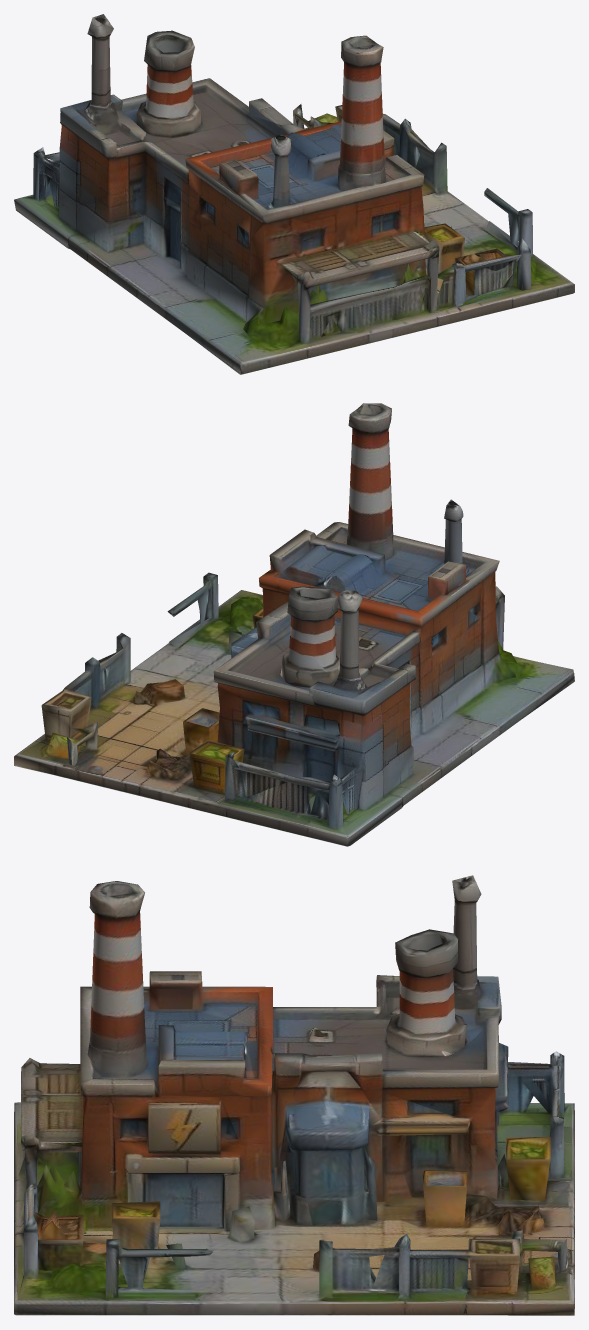
Rendered from power_plant.glb.
3 views of the same model, one above another, from view 1: azimuth 30°, elevation 25°; view 2: azimuth 150°, elevation 25°; view 3: azimuth 270°, elevation 25° (orthographic). The views are drawn at different scales.
Parts seen in each view (by area): view 1: tripo_node_d4320154-a605-4a2c-970f-9fe70ea67885; view 2: tripo_node_d4320154-a605-4a2c-970f-9fe70ea67885; view 3: tripo_node_d4320154-a605-4a2c-970f-9fe70ea67885.
Boxes of the visible parts, x1,y1,x2,y2 form: tripo_node_d4320154-a605-4a2c-970f-9fe70ea67885: (14, 14, 574, 374); tripo_node_d4320154-a605-4a2c-970f-9fe70ea67885: (14, 403, 574, 846); tripo_node_d4320154-a605-4a2c-970f-9fe70ea67885: (14, 875, 574, 1315).
Bounding box in the file's own units: 2.34 × 1.76 × 2.76.
Materials: 1 (1 with a texture image).
